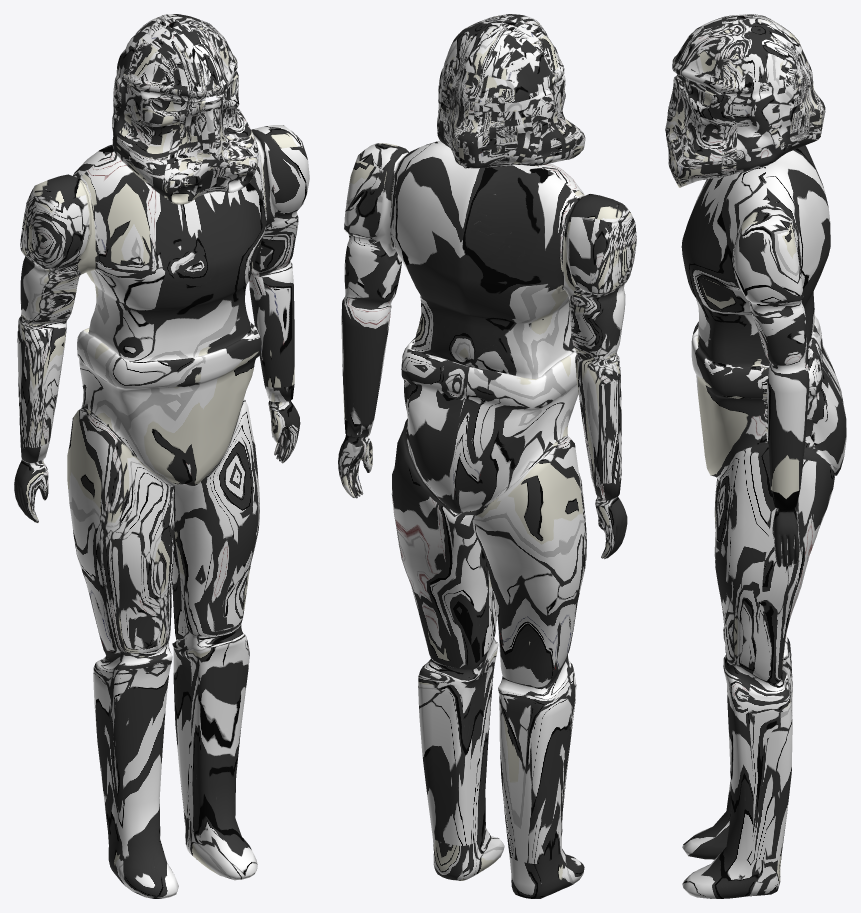
File: stormtrooper.glb
The picture shows the model from 3 angles, left to right: view 1: azimuth 30°, elevation 25°; view 2: azimuth 150°, elevation 25°; view 3: azimuth 270°, elevation 25°; orthographic projection.
Parts seen in each view (by area): view 1: Stormtrooper; view 2: Stormtrooper; view 3: Stormtrooper.
Boxes of the visible parts, left/top/right/bottom form: Stormtrooper: left=14, top=14, right=309, bottom=898; Stormtrooper: left=338, top=14, right=636, bottom=898; Stormtrooper: left=665, top=14, right=846, bottom=898.
Size of the model in its own units: 8.42 by 24.39 by 4.69.
1 material, 1 textured.
